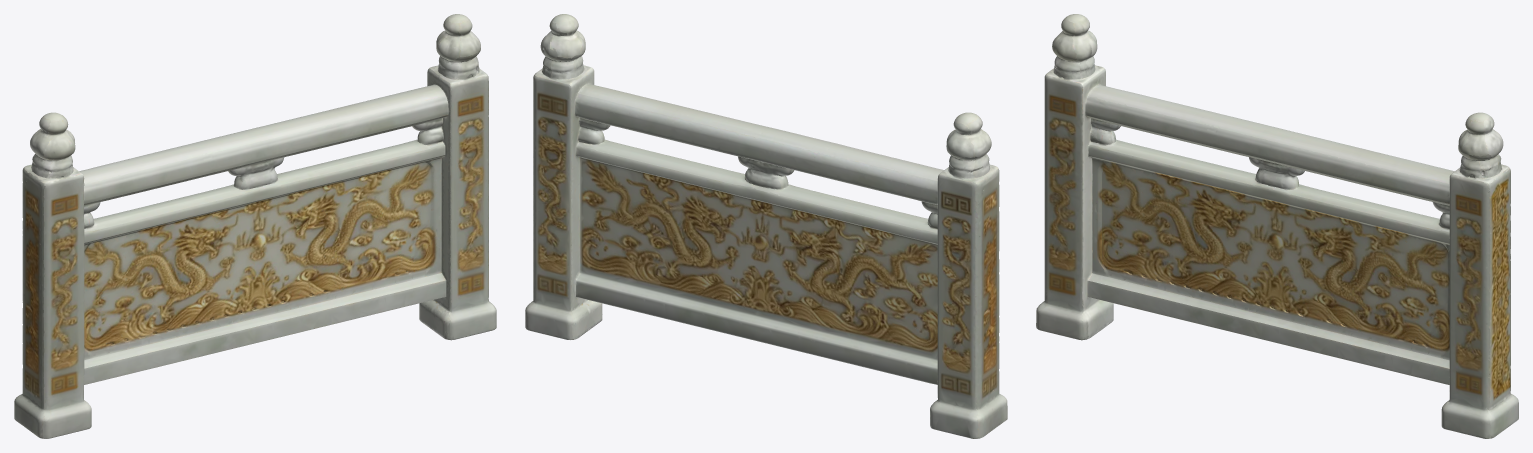
Rendered from celestial-railing.glb.
3 renders of one model, left to right at view 1: azimuth 30°, elevation 25°; view 2: azimuth 150°, elevation 25°; view 3: azimuth 330°, elevation 25°, orthographic.
Visible parts, largest first — view 1: geometry_0; view 2: geometry_0; view 3: geometry_0.
Part boxes in pixels (x1,y1,x2,y2): geometry_0: (14, 14, 496, 438); geometry_0: (525, 14, 1007, 438); geometry_0: (1036, 14, 1518, 438).
Bounding box in the file's own units: 1.2 × 0.7729 × 0.1456.
Materials: 1 (1 with a texture image).
